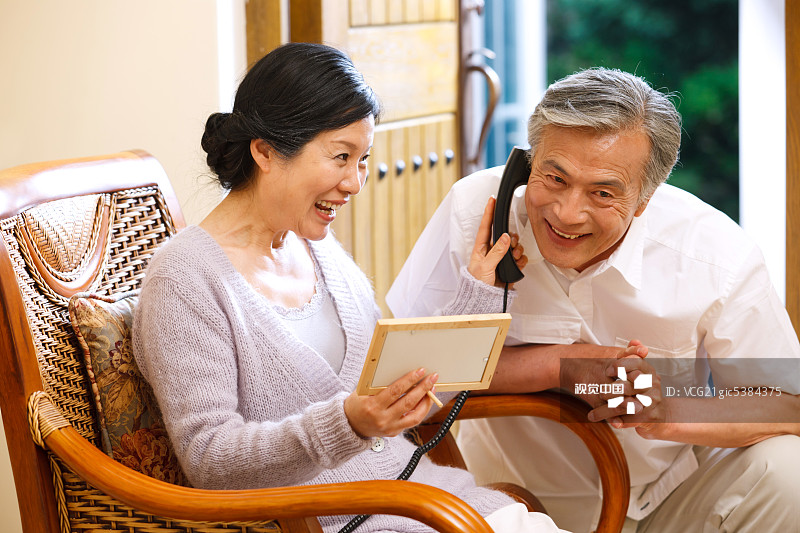no-phone: (457, 184, 544, 301), (339, 364, 448, 444)
